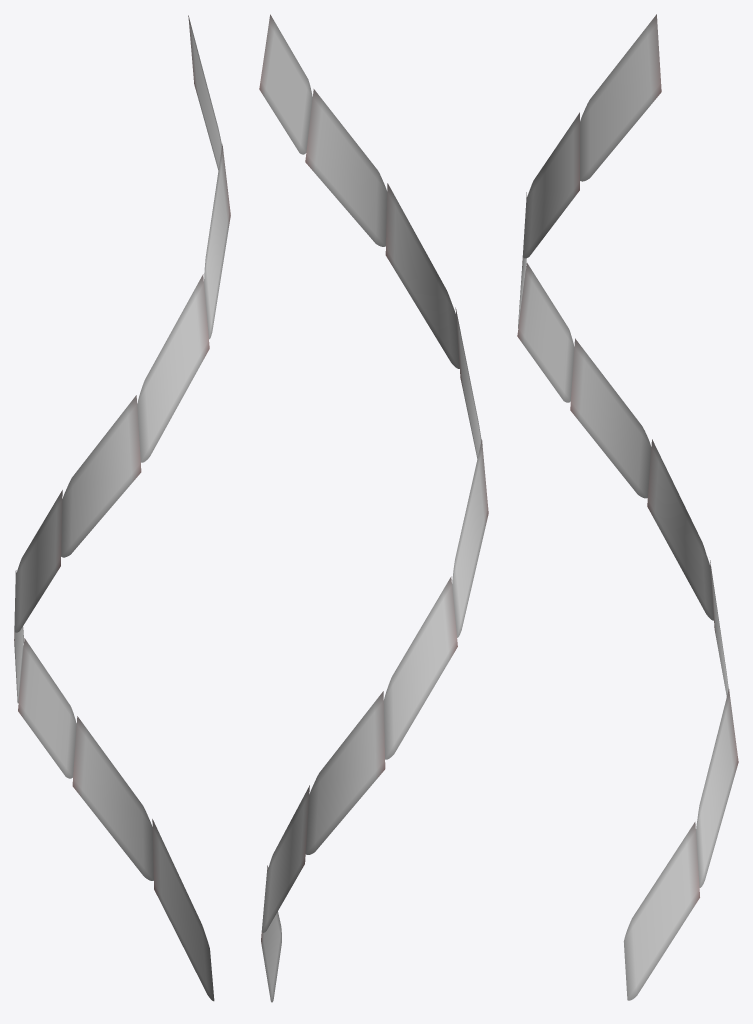
The picture shows the model from 3 angles, left to right: view 1: azimuth 30°, elevation 25°; view 2: azimuth 150°, elevation 25°; view 3: azimuth 270°, elevation 25°; orthographic projection. The views are drawn at different scales.
Parts seen in each view (by area): view 1: T1L9M005_13; view 2: T1L9M005_13; view 3: T1L9M005_13.
Part boxes in pixels (bbox=[...]): T1L9M005_13: bbox=[14, 15, 230, 1001]; T1L9M005_13: bbox=[259, 14, 488, 1002]; T1L9M005_13: bbox=[517, 14, 738, 1000].
Size of the model in its own units: 0.0449 by 0.2217 by 0.0449.
1 material, 1 textured.
